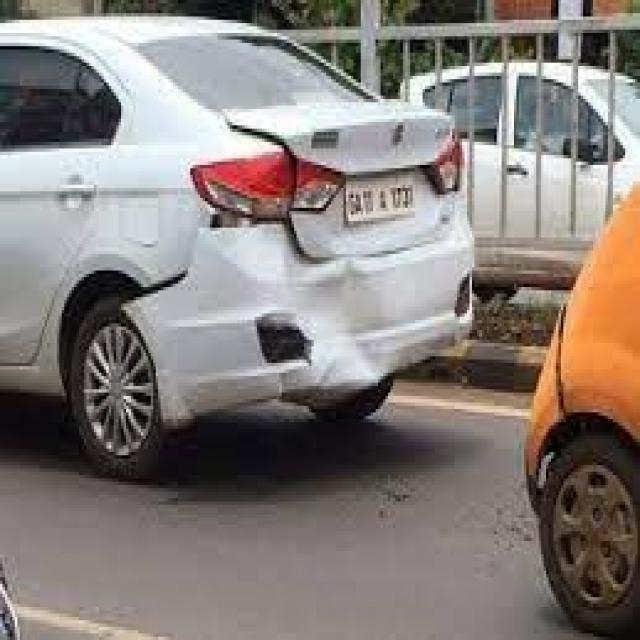moderate: (130, 115, 423, 409)
